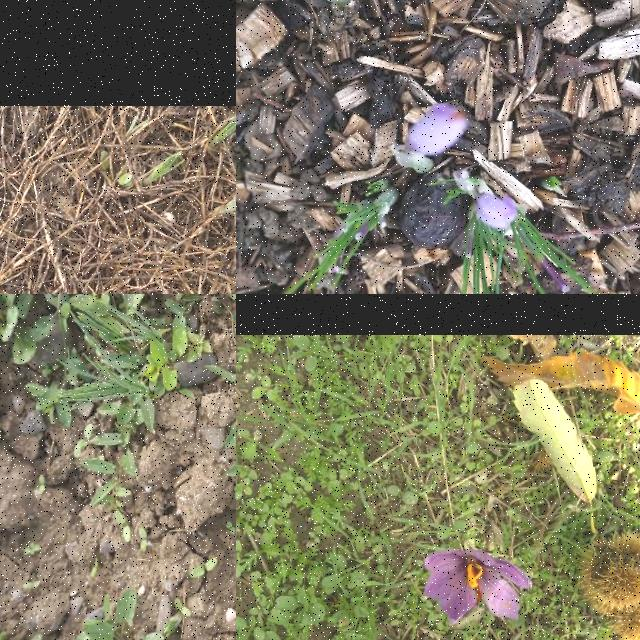flower: (424, 549, 534, 627), (409, 103, 468, 155)
